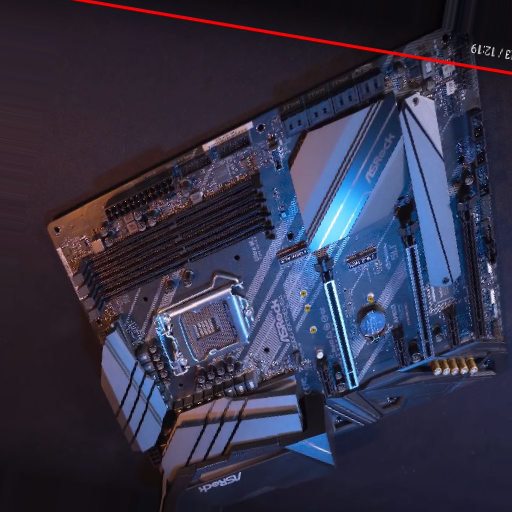CPU: (158, 284, 258, 376)
GPU: (313, 257, 361, 389), (395, 223, 437, 362), (451, 193, 490, 340)
MOTHERBOARD: (39, 15, 508, 492)
RAM: (70, 175, 279, 324)
SSD: (276, 241, 309, 267), (348, 250, 380, 273)
